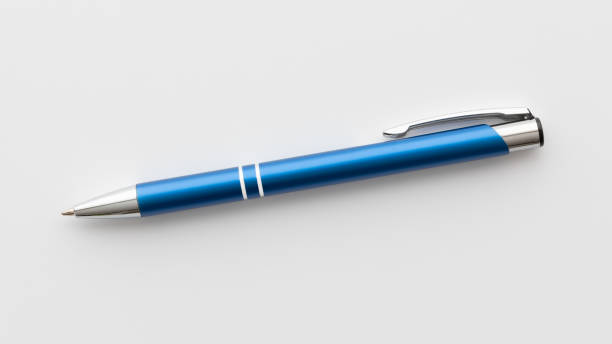pen: (57, 104, 557, 254)
